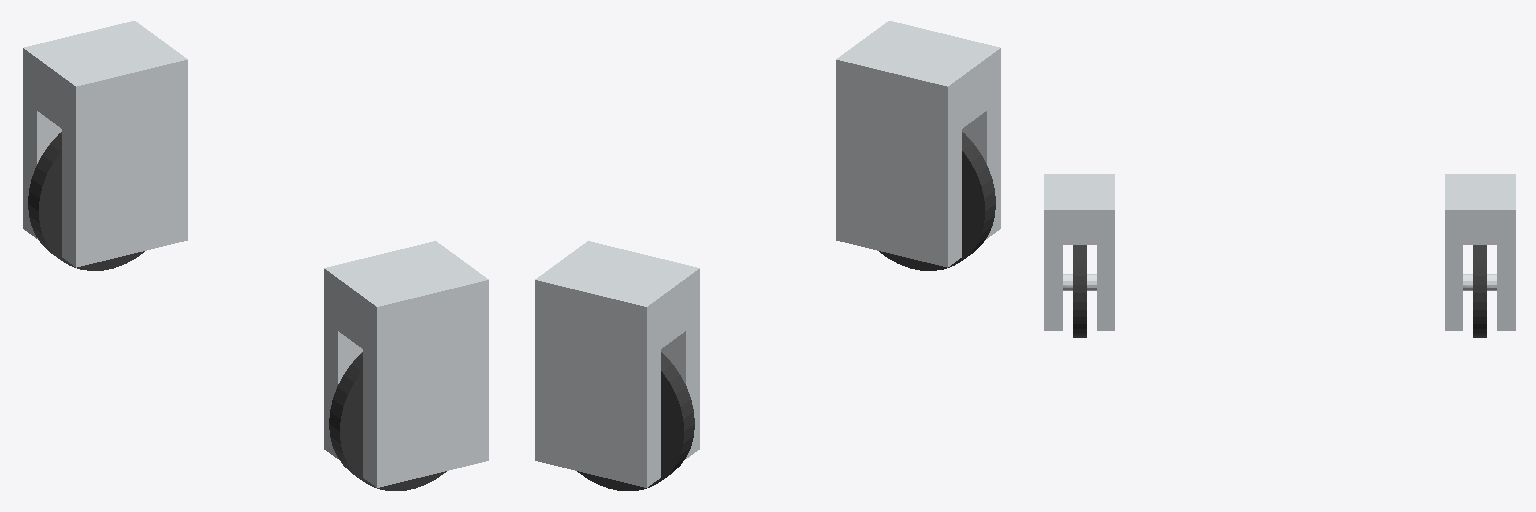
The robot description file, URDF, robot "robot_urdf":
<?xml version="1.0" encoding="utf-8"?>
<!-- This URDF was automatically created by SolidWorks to URDF Exporter! Originally created by
Stephen Brawner (brawner@gmail.com) 
     Commit Version: 1.6.0-4-g7f85cfe  Build Version: 1.6.7995.38578
     For more information, please see http://wiki.ros.org/sw_urdf_exporter -->
<robot
  name="robot_urdf">
  <link
    name="base_link">
  </link>
  <link
    name="chassis_link">
    <inertial>
      <origin
        xyz="-0.0025361 -6.9389E-16 -0.1141"
        rpy="0 0 0" />
      <mass
        value="74.085" />
      <inertia
        ixx="40.423"
        ixy="1.5444E-13"
        ixz="-0.053004"
        iyy="43.314"
        iyz="7.2533E-14"
        izz="70.007" />
    </inertial>
    <visual>
      <origin
        xyz="0 0 0"
        rpy="0 0 0" />
      <geometry>
        <mesh
          filename="package://robot_urdf/meshes/2w/chassis_link.STL" />
      </geometry>
      <material
        name="">
        <color
          rgba="0.89804 0.91765 0.92941 1" />
      </material>
    </visual>
    <collision>
      <origin
        xyz="0 0 0"
        rpy="0 0 0" />
      <geometry>
        <mesh
          filename="package://robot_urdf/meshes/2w/chassis_link.STL" />
      </geometry>
    </collision>
  </link>
  <joint
    name="chassis_joint"
    type="fixed">
    <origin
      xyz="0.0112876459450606 -0.015426091141137 0.96832"
      rpy="0 0 0" />
    <parent
      link="base_link" />
    <child
      link="chassis_link" />
    <axis
      xyz="0 0 0" />
  </joint>
  <link
    name="left_wheel_holder_link">
    <inertial>
      <origin
        xyz="2.0817E-16 -2.2204E-16 -0.2296"
        rpy="0 0 0" />
      <mass
        value="4.2419" />
      <inertia
        ixx="0.1287"
        ixy="-1.0555E-16"
        ixz="-1.597E-16"
        iyy="0.13522"
        iyz="4.8616E-17"
        izz="0.079121" />
    </inertial>
    <visual>
      <origin
        xyz="0 0 0"
        rpy="0 0 0" />
      <geometry>
        <mesh
          filename="package://robot_urdf/meshes/2w/left_wheel_holder_link.STL" />
      </geometry>
      <material
        name="">
        <color
          rgba="0.89804 0.91765 0.92941 1" />
      </material>
    </visual>
    <collision>
      <origin
        xyz="0 0 0"
        rpy="0 0 0" />
      <geometry>
        <mesh
          filename="package://robot_urdf/meshes/2w/left_wheel_holder_link.STL" />
      </geometry>
    </collision>
  </link>
  <joint
    name="left_wheel_holder_joint"
    type="fixed">
    <origin
      xyz="-0.0672750000000006 0.7012 -0.42432"
      rpy="0 0 0" />
    <parent
      link="chassis_link" />
    <child
      link="left_wheel_holder_link" />
    <axis
      xyz="0 0 0" />
  </joint>
  <link
    name="left_wheel_link">
    <inertial>
      <origin
        xyz="-6.93889390390723E-18 1.11022302462516E-16 -2.77555756156289E-17"
        rpy="0 0 0" />
      <mass
        value="5.91184905552528" />
      <inertia
        ixx="0.0568562229833385"
        ixy="-6.91191767359212E-18"
        ixz="-4.24872496741667E-34"
        iyy="0.111249175526875"
        iyz="-5.54086297297122E-35"
        izz="0.0568562229833384" />
    </inertial>
    <visual>
      <origin
        xyz="0 0 0"
        rpy="0 0 0" />
      <geometry>
        <mesh
          filename="package://robot_urdf/meshes/2w/left_wheel_link.STL" />
      </geometry>
      <material
        name="">
        <color
          rgba="0.298039215686275 0.298039215686275 0.298039215686275 1" />
      </material>
    </visual>
    <collision>
      <origin
        xyz="0 0 0"
        rpy="0 0 0" />
      <geometry>
        <mesh
          filename="package://robot_urdf/meshes/2w/left_wheel_link.STL" />
      </geometry>
    </collision>
  </link>
  <joint
    name="left_wheel_joint"
    type="continuous">
    <origin
      xyz="0 0 -0.35"
      rpy="0 0 0" />
    <parent
      link="left_wheel_holder_link" />
    <child
      link="left_wheel_link" />
    <axis
      xyz="0 -1 0" />
    <limit
      effort="20"
      velocity="10" />
  </joint>
  <link
    name="right_wheel_holder_link">
    <inertial>
      <origin
        xyz="1.38777878078145E-16 -1.11022302462516E-16 -0.229600737446319"
        rpy="0 0 0" />
      <mass
        value="4.24194552497604" />
      <inertia
        ixx="0.12870471215313"
        ixy="-8.86107503999812E-17"
        ixz="-1.76412809127544E-16"
        iyy="0.135223950425352"
        iyz="-1.17287016832933E-17"
        izz="0.0791209297176007" />
    </inertial>
    <visual>
      <origin
        xyz="0 0 0"
        rpy="0 0 0" />
      <geometry>
        <mesh
          filename="package://robot_urdf/meshes/2w/right_wheel_holder_link.STL" />
      </geometry>
      <material
        name="">
        <color
          rgba="0.898039215686275 0.917647058823529 0.929411764705882 1" />
      </material>
    </visual>
    <collision>
      <origin
        xyz="0 0 0"
        rpy="0 0 0" />
      <geometry>
        <mesh
          filename="package://robot_urdf/meshes/2w/right_wheel_holder_link.STL" />
      </geometry>
    </collision>
  </link>
  <joint
    name="right_wheel_holder_joint"
    type="fixed">
    <origin
      xyz="-0.0672750000000007 -0.7012 -0.42432"
      rpy="0 0 0" />
    <parent
      link="chassis_link" />
    <child
      link="right_wheel_holder_link" />
    <axis
      xyz="0 0 0" />
  </joint>
  <link
    name="right_wheel_link">
    <inertial>
      <origin
        xyz="-6.93889390390723E-18 -1.11022302462516E-16 -2.77555756156289E-17"
        rpy="0 0 0" />
      <mass
        value="5.91184905552528" />
      <inertia
        ixx="0.0568562229833385"
        ixy="-3.21890613138286E-35"
        ixz="-8.41424213201121E-34"
        iyy="0.111249175526875"
        iyz="1.47334202303585E-18"
        izz="0.0568562229833385" />
    </inertial>
    <visual>
      <origin
        xyz="0 0 0"
        rpy="0 0 0" />
      <geometry>
        <mesh
          filename="package://robot_urdf/meshes/2w/right_wheel_link.STL" />
      </geometry>
      <material
        name="">
        <color
          rgba="0.298039215686275 0.298039215686275 0.298039215686275 1" />
      </material>
    </visual>
    <collision>
      <origin
        xyz="0 0 0"
        rpy="0 0 0" />
      <geometry>
        <mesh
          filename="package://robot_urdf/meshes/2w/right_wheel_link.STL" />
      </geometry>
    </collision>
  </link>
  <joint
    name="right_wheel_joint"
    type="continuous">
    <origin
      xyz="0 0 -0.35"
      rpy="0 0 0" />
    <parent
      link="right_wheel_holder_link" />
    <child
      link="right_wheel_link" />
    <axis
      xyz="0 -1 0" />
    <limit
      effort="20"
      velocity="10" />
  </joint>
  <link
    name="depth_camera_link">
  </link>
  <joint
    name="depth_camera_joint"
    type="fixed">
    <origin
      xyz="1.017 0 0"
      rpy="0 0 0" />
    <parent
      link="chassis_link" />
    <child
      link="depth_camera_link" />
    <axis
      xyz="0 0 0" />
  </joint>

  <ros2_control name="IgnitionSystem" type="system">

    <hardware>
      <plugin>ign_ros2_control/IgnitionSystem</plugin>
    </hardware>

    <joint name="left_wheel_joint">
      <command_interface name="velocity" />
      <state_interface name="position" />
      <state_interface name="velocity" />
    </joint>

    <joint name="right_wheel_joint">
      <command_interface name="velocity" />
      <state_interface name="position" />
      <state_interface name="velocity" />
    </joint>

  </ros2_control>

  <gazebo>

    <plugin filename="libign_ros2_control-system.so"
      name="ign_ros2_control::IgnitionROS2ControlPlugin">
      <robot_param>robot_description</robot_param>
      <robot_param_node>robot_state_publisher</robot_param_node>
      <parameters>/home/manfred/Projects/Vitrox/src/robot_urdf/config/diffdrive.yaml</parameters>
    </plugin>

  </gazebo>

  <gazebo reference="left_wheel_link">
    <mu1>1.2</mu1>
    <mu2>1.2</mu2>
    <kp>1000000.0</kp>
    <kd>100.0</kd>
  </gazebo>

  <gazebo reference="right_wheel_link">
    <mu1>1.2</mu1>
    <mu2>1.2</mu2>
    <kp>1000000.0</kp>
    <kd>100.0</kd>
  </gazebo>

  <gazebo reference="chassis_link">
    <material>Gazebo/Orange</material>
    <mu1>0.0</mu1>
    <mu2>0.0</mu2>
  </gazebo>

  <gazebo reference="depth_camera_link">
    <sensor name="rgbd_camera" type="rgbd_camera">
      <ignition_frame_id>Depth_camera_link</ignition_frame_id>
      <camera name="rgbd_camera_frame">
        <horizontal_fov>1.3962634</horizontal_fov>
        <lens>
          <intrinsics>
            <fx>277.1</fx>
            <fy>277.1</fy>
            <cx>160.5</cx>
            <cy>120.5</cy>
            <s>0</s>
          </intrinsics>
        </lens>
        <distortion>
          <k1>0.104207</k1>
          <k2>-0.255558</k2>
          <k3>0.128694</k3>
          <p1>0.000512</p1>
          <p2>0.000319</p2>
          <center>0.5 0.5</center>
        </distortion>
        <image>
          <width>1280</width>
          <height>720</height>
          <format>L8</format>
        </image>
        <clip>
          <near>0.01</near>
          <far>300</far>
        </clip>
        <depth_camera>
          <clip>
            <near>0.1</near>
            <far>10</far>
          </clip>
        </depth_camera>
        <noise>
          <type>gaussian</type>
          <mean>0</mean>
          <stddev>0.003</stddev>
        </noise>
      </camera>
      <always_on>1</always_on>
      <update_rate>10</update_rate>
      <visualize>0</visualize>
      <topic>depth_camera</topic>
    </sensor>
  </gazebo>
</robot>

--- Render facts (derived) ---
3 views of the same robot in one strip: view 1: azimuth 30°, elevation 25°; view 2: azimuth 150°, elevation 25°; view 3: azimuth 270°, elevation 25° (orthographic).
Model robot_urdf with 7 links and 6 joints (2 continuous, 4 fixed), rooted at base_link, posed all joints at 0.
Visible links, largest first — view 1: right_wheel_holder_link, left_wheel_holder_link, left_wheel_link, right_wheel_link; view 2: left_wheel_holder_link, right_wheel_holder_link, right_wheel_link, left_wheel_link; view 3: left_wheel_holder_link, right_wheel_holder_link, left_wheel_link, right_wheel_link.
Link boxes in pixels (<box>): right_wheel_holder_link: <box>324,241,488,487</box>; left_wheel_holder_link: <box>23,21,187,267</box>; left_wheel_link: <box>28,132,144,270</box>; right_wheel_link: <box>329,352,446,490</box>; left_wheel_holder_link: <box>535,241,699,487</box>; right_wheel_holder_link: <box>836,21,1000,267</box>; right_wheel_link: <box>879,132,995,270</box>; left_wheel_link: <box>577,352,694,490</box>; left_wheel_holder_link: <box>1445,174,1515,330</box>; right_wheel_holder_link: <box>1044,174,1114,330</box>; left_wheel_link: <box>1473,245,1486,337</box>; right_wheel_link: <box>1073,245,1086,337</box>.
Size in the robot's own frame: 0.3874 by 1.65 by 0.5438 metres.
Meshes: 5 distinct files referenced, 4 mesh visuals loaded (4 binary STL); not drawn: 1 (reference not matched to a file when rendering).
